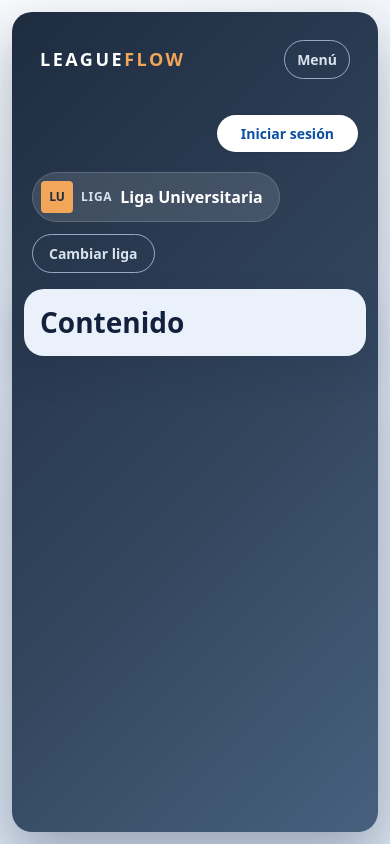
Scenario: navegación colapsable › mantiene las seis secciones alcanzables al abrirlo
The image size is (390, 844).
Click the button "Menú": (317, 60) [284,40,350,79]
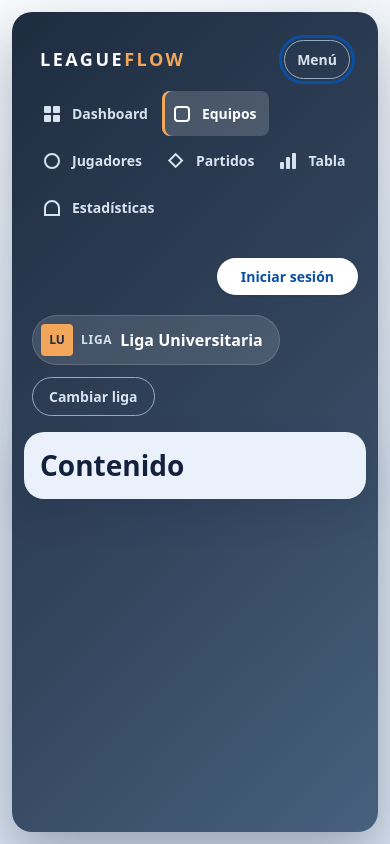
Check: the navigation bar named "Secciones" shows "Dashboard", box [32,91,160,136]
Check: the navigation bar named "Secciones" shows "Equipos", box [162,91,269,136]
Check: the navigation bar named "Secciones" shows "Jugadores", box [32,138,154,183]
